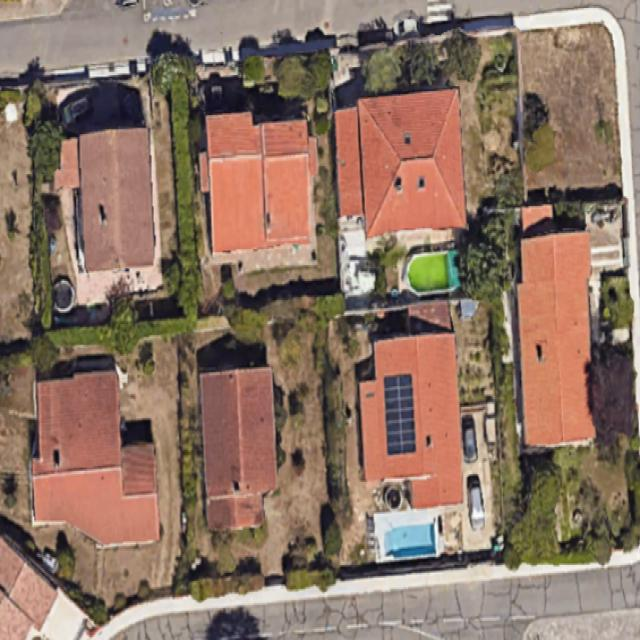maison: (26, 367, 159, 549), (332, 89, 466, 241), (355, 332, 466, 511), (515, 205, 593, 446), (200, 367, 279, 531), (77, 127, 155, 268)
